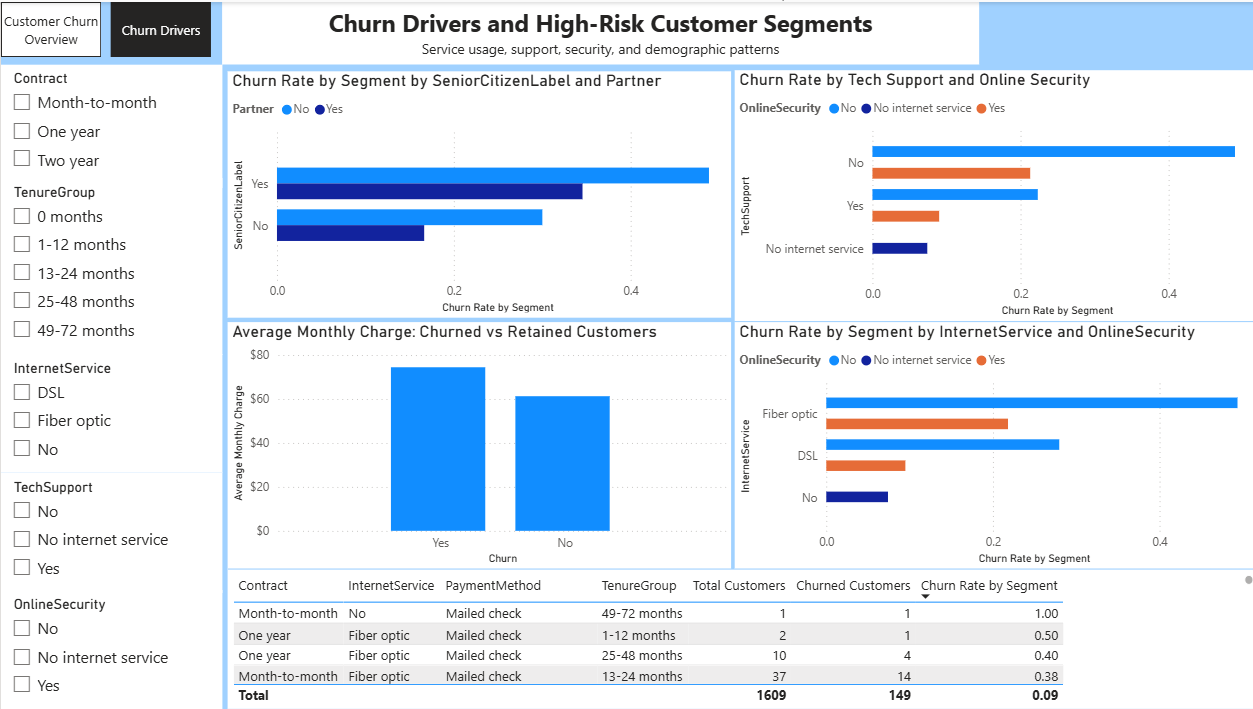

What the dashboard file says about the page in this screenshot:
{"tool":"powerbi","page":{"name":"Churn Drivers","canvas":[1280,720],"ordinal":1},"visuals":[{"type":"textbox","box":[225.1,0,770.7,63.8],"z":0},{"type":"clusteredBarChart","title":"Churn Rate by Tech Support and Online Security","fields":{"Category":["Customer Churn.TechSupport"],"Y":["Churn Measures.Churn Rate by Segment"],"Series":["Customer Churn.OnlineSecurity"]},"box":[747.1,69.4,529.8,255.4],"z":1000},{"type":"clusteredBarChart","fields":{"Category":["Customer Churn.SeniorCitizenLabel"],"Y":["Churn Measures.Churn Rate by Segment"],"Series":["Customer Churn.Partner"]},"box":[230.7,70.6,513,250.9],"z":2000},{"type":"clusteredColumnChart","title":"Average Monthly Charge: Churned vs Retained Customers","fields":{"Category":["Customer Churn.Churn"],"Y":["Churn Measures.Average Monthly Charge"]},"box":[230.7,326,513,250.9],"z":2001},{"type":"tableEx","fields":{"Values":["Customer Churn.Contract","Customer Churn.InternetService","Customer Churn.PaymentMethod","Customer Churn.TenureGroup","Churn Measures.Total Customers","Churn Measures.Churned Customers","Churn Measures.Churn Rate by Segment"]},"box":[230.7,578,1049.6,142.3],"z":2002},{"type":"slicer","fields":{"Values":["Customer Churn.Contract"]},"box":[0,63.8,225.1,125.5],"z":2003},{"type":"slicer","fields":{"Values":["Customer Churn.TenureGroup"]},"box":[0,179.2,225.1,180.3],"z":2004},{"type":"slicer","fields":{"Values":["Customer Churn.InternetService"]},"box":[0,358.4,225.1,121],"z":2005},{"type":"slicer","fields":{"Values":["Customer Churn.TechSupport"]},"box":[0,479.4,225.1,122.1],"z":2006},{"type":"slicer","fields":{"Values":["Customer Churn.OnlineSecurity"]},"box":[0,599.3,225.1,121],"z":2007},{"type":"clusteredBarChart","fields":{"Y":["Churn Measures.Churn Rate by Segment"],"Category":["Customer Churn.InternetService"],"Series":["Customer Churn.OnlineSecurity"]},"box":[747,326,530,251],"z":2008},{"type":"pageNavigator","box":[0,0,215.1,56],"z":2009}]}

Visuals, with their boxes on the page's 1280x720 design canvas (x1, y1, x2, y2). These are canvas units, not pixel positions in the 1253x709 screenshot, which may show the page scaled, cropped or inside an application window:
textbox: (225,0,996,64)
"Churn Rate by Tech Support and Online Security" clusteredBarChart: (747,69,1277,325)
clusteredBarChart - Customer Churn.SeniorCitizenLabel x Churn Measures.Churn Rate by Segment: (231,71,744,322)
"Average Monthly Charge: Churned vs Retained Customers" clusteredColumnChart: (231,326,744,577)
tableEx - Customer Churn.Contract x Customer Churn.InternetService: (231,578,1280,720)
slicer - Customer Churn.Contract: (0,64,225,189)
slicer - Customer Churn.TenureGroup: (0,179,225,360)
slicer - Customer Churn.InternetService: (0,358,225,479)
slicer - Customer Churn.TechSupport: (0,479,225,602)
slicer - Customer Churn.OnlineSecurity: (0,599,225,720)
clusteredBarChart - Churn Measures.Churn Rate by Segment x Customer Churn.InternetService: (747,326,1277,577)
pageNavigator: (0,0,215,56)
